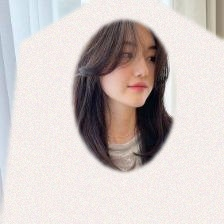Mukena: (12, 20, 224, 224)
